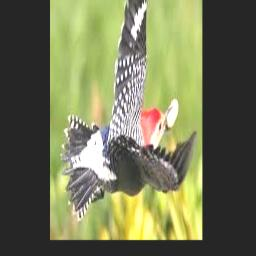Woodpecker: (60, 0, 197, 221)
